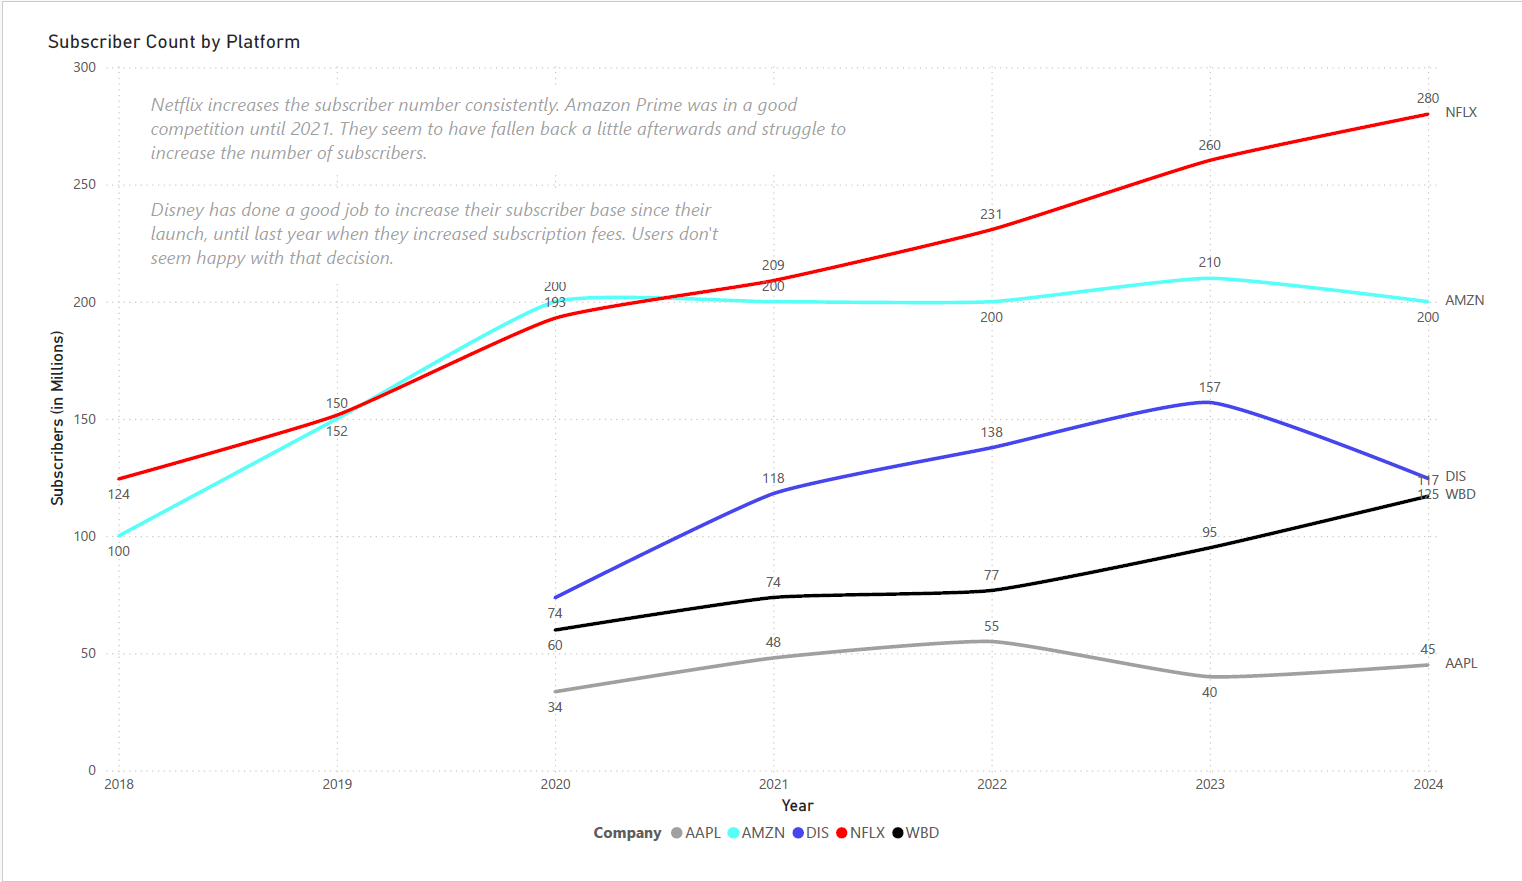

The dashboard page shown, as its layout file describes it:
{"tool":"powerbi","page":{"name":"3. Total Subscribers","canvas":[1280,720],"ordinal":4},"visuals":[{"type":"lineChart","title":"Subscriber Count by Platform","fields":{"Category":["All Data.Year"],"Y":["Sum(All Data.Subscribers_M)"],"Series":["All Data.Company"]},"box":[9.6,0,1270.7,720.4],"z":0},{"type":"textbox","box":[100.2,49.4,657.3,76.8],"z":1000},{"type":"textbox","box":[100.2,141.3,524.2,78.2],"z":2000}]}

Visuals, with their boxes in screenshot pixels (x1, y1, x2, y2), scaled from the page's 1280x720 canvas onto the 1522x882 screenshot:
"Subscriber Count by Platform" lineChart: 11/0/1521/881
textbox: 119/61/901/155
textbox: 119/173/742/269
